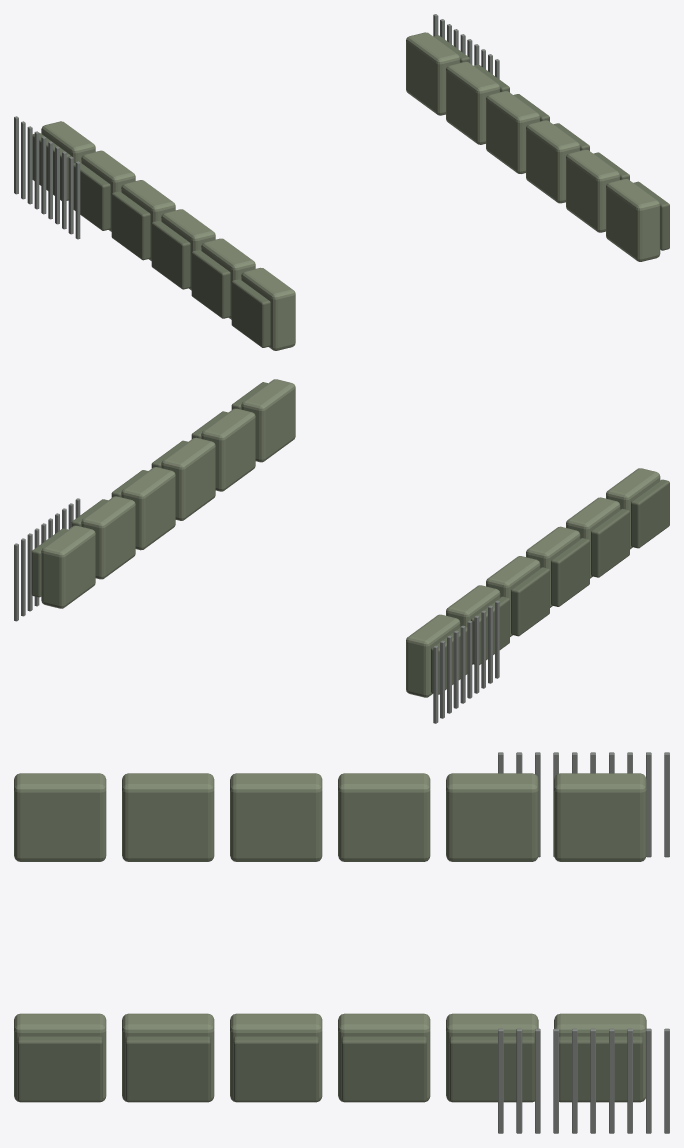
Rendered from armor_2.glb.
The picture shows the model from 3 angles, top to bottom: view 1: azimuth 30°, elevation 25°; view 2: azimuth 150°, elevation 25°; view 3: azimuth 270°, elevation 25°; orthographic projection. The views are drawn at different scales.
Parts seen in each view (by area): view 1: armor_2; view 2: armor_2; view 3: armor_2.
Boxes of the visible parts, left/top/right/bottom form: armor_2: left=14, top=14, right=669, bottom=350; armor_2: left=14, top=379, right=669, bottom=723; armor_2: left=14, top=752, right=669, bottom=1133.
Size of the model in its own units: 4.63 by 0.8 by 4.62.
